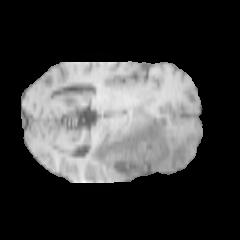glioma: (90, 111, 187, 176)
